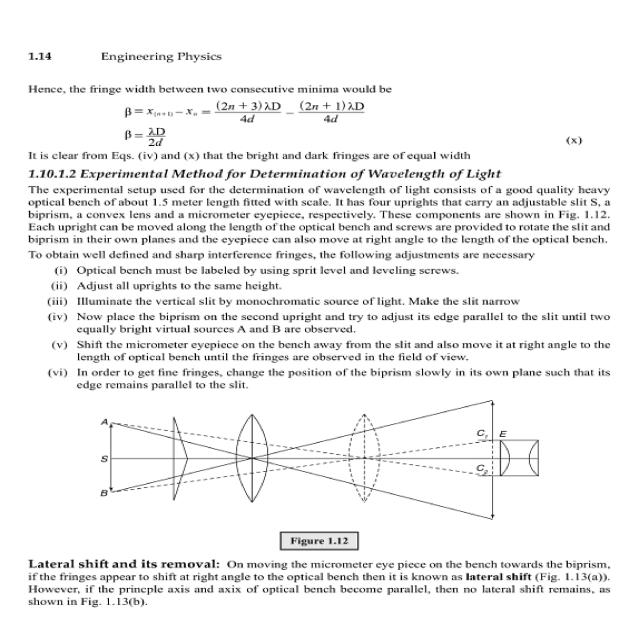diagram: (50, 404, 622, 556)
